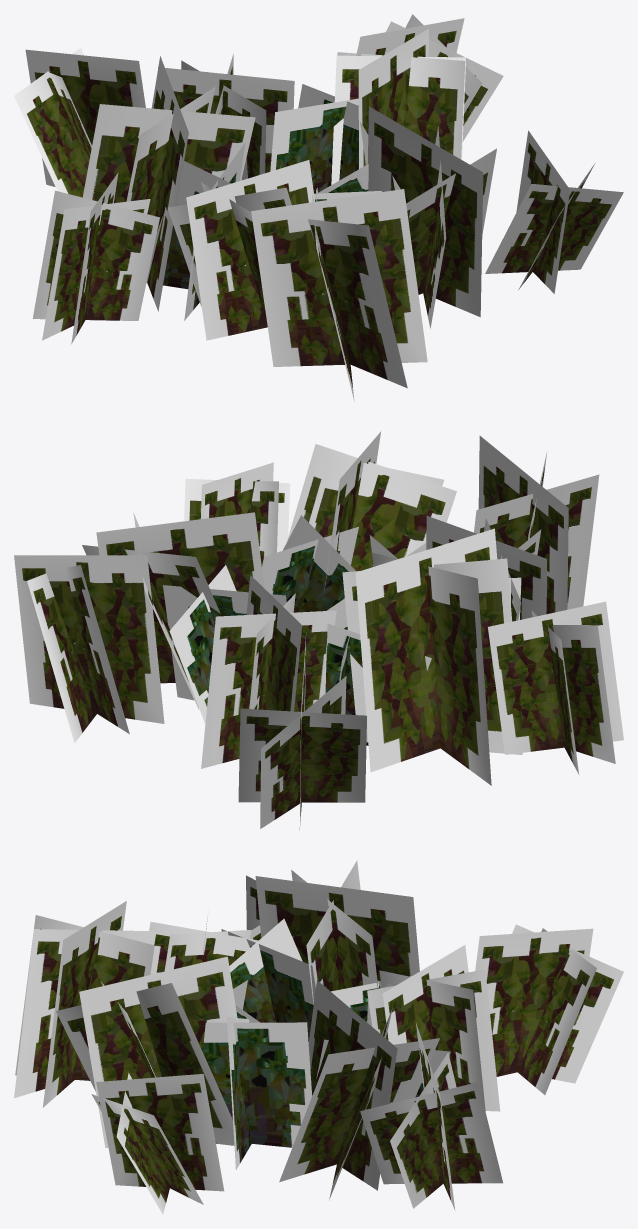
The model's file is FlowerGrass04.fbx.
3 views of the same model, one above another, from view 1: azimuth 30°, elevation 25°; view 2: azimuth 150°, elevation 25°; view 3: azimuth 270°, elevation 25° (orthographic). The views are drawn at different scales.
Parts seen in each view (by area): view 1: FlowerGrass04; view 2: FlowerGrass04; view 3: FlowerGrass04.
Boxes of the visible parts, x1=… form: FlowerGrass04: x1=14, y1=14, x2=623, y2=401; FlowerGrass04: x1=14, y1=431, x2=623, y2=830; FlowerGrass04: x1=14, y1=860, x2=623, y2=1214.
Size of the model in its own units: 233 by 83.4 by 248.
